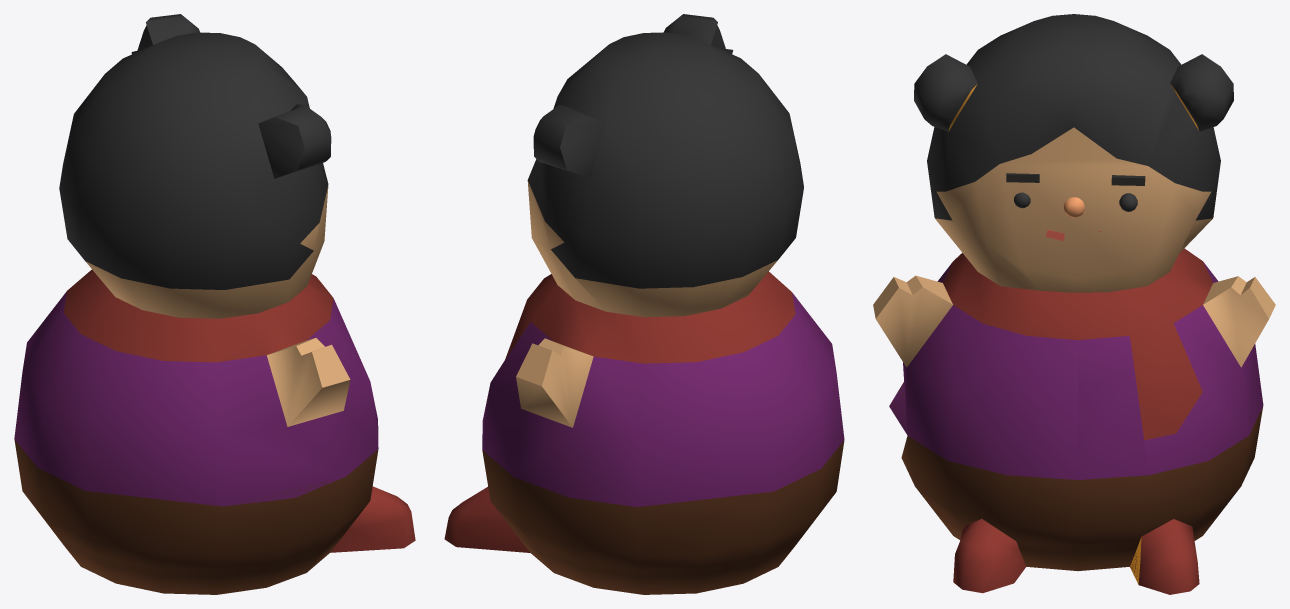
File: grandmaSmooth.fbx
The picture shows the model from 3 angles, left to right: view 1: azimuth 30°, elevation 25°; view 2: azimuth 150°, elevation 25°; view 3: azimuth 270°, elevation 25°; orthographic projection.
Visible parts, largest first — view 1: Monkey; view 2: Monkey; view 3: Monkey.
Boxes of the visible parts, box(x1,y1,x2,y2) form: Monkey: box(14, 14, 415, 594); Monkey: box(444, 14, 844, 594); Monkey: box(873, 14, 1275, 594).
Size of the model in its own units: 256 by 365 by 274.
